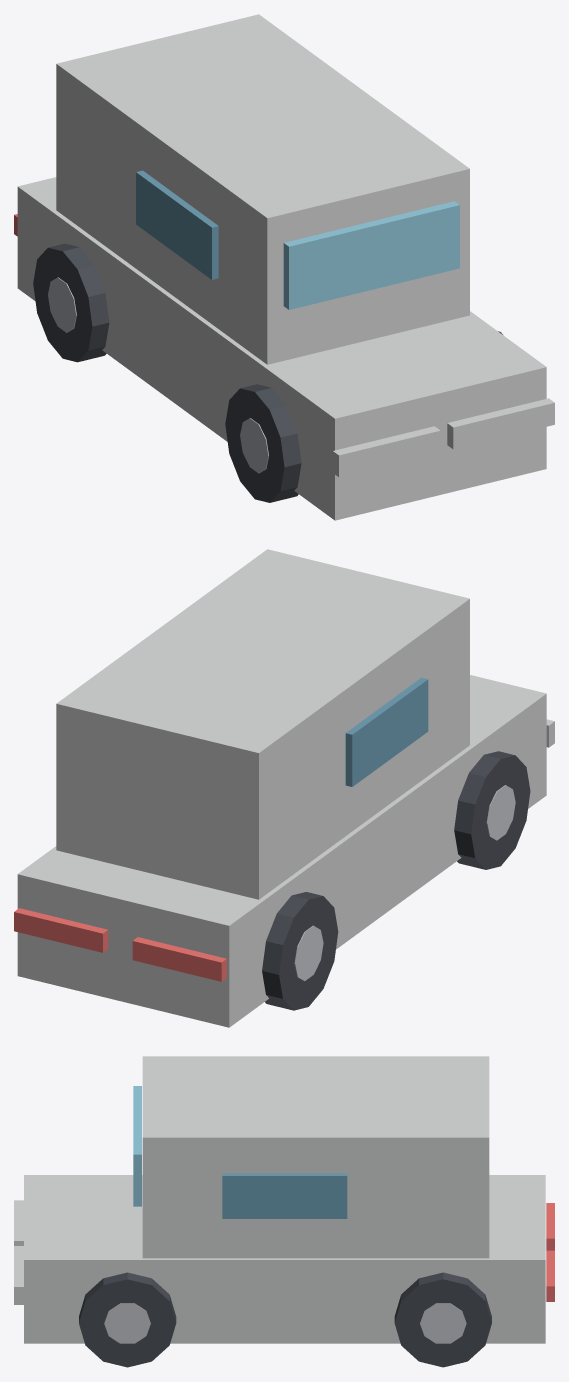
The model's file is traffic_delivery_van_white.glb.
The picture shows the model from 3 angles, top to bottom: view 1: azimuth 30°, elevation 25°; view 2: azimuth 150°, elevation 25°; view 3: azimuth 270°, elevation 25°; orthographic projection. The views are drawn at different scales.
Parts seen in each view (by area): view 1: van_upper_1, van_body_0, windshield_2, wheel_FL_5, wheel_RL_9, side_window_L_3, headlight_R_14, headlight_L_13, rim_FL_6, rim_RL_10; view 2: van_upper_1, van_body_0, wheel_FL_5, wheel_RL_9, side_window_L_3, taillight_L_15, taillight_R_16, rim_RL_10, rim_FL_6; view 3: van_upper_1, van_body_0, side_window_R_4, wheel_FR_7, wheel_RR_11, rim_RR_12, rim_FR_8, windshield_2, headlight_R_14, taillight_R_16, headlight_L_13, taillight_L_15.
Boxes of the visible parts, x1=… form: van_upper_1: x1=56, y1=14, x2=469, y2=364; van_body_0: x1=17, y1=177, x2=546, y2=520; windshield_2: x1=283, y1=201, x2=459, y2=309; wheel_FL_5: x1=225, y1=384, x2=301, y2=502; wheel_RL_9: x1=33, y1=243, x2=109, y2=362; side_window_L_3: x1=136, y1=170, x2=218, y2=279; headlight_R_14: x1=447, y1=398, x2=554, y2=449; headlight_L_13: x1=333, y1=426, x2=440, y2=477; rim_FL_6: x1=240, y1=418, x2=268, y2=473; rim_RL_10: x1=48, y1=277, x2=76, y2=332; van_upper_1: x1=56, y1=549, x2=469, y2=899; van_body_0: x1=17, y1=675, x2=546, y2=1027; wheel_FL_5: x1=454, y1=751, x2=530, y2=869; wheel_RL_9: x1=262, y1=892, x2=338, y2=1010; side_window_L_3: x1=345, y1=677, x2=428, y2=786; taillight_L_15: x1=132, y1=937, x2=226, y2=981; taillight_R_16: x1=14, y1=908, x2=108, y2=952; rim_RL_10: x1=294, y1=925, x2=323, y2=980; rim_FL_6: x1=486, y1=785, x2=515, y2=840; van_upper_1: x1=142, y1=1056, x2=489, y2=1258; van_body_0: x1=24, y1=1175, x2=545, y2=1343; side_window_R_4: x1=222, y1=1173, x2=347, y2=1218; wheel_FR_7: x1=79, y1=1272, x2=176, y2=1367; wheel_RR_11: x1=394, y1=1272, x2=491, y2=1367; rim_RR_12: x1=420, y1=1303, x2=466, y2=1343; rim_FR_8: x1=104, y1=1303, x2=150, y2=1343; windshield_2: x1=133, y1=1086, x2=141, y2=1206; headlight_R_14: x1=14, y1=1246, x2=23, y2=1304; taillight_R_16: x1=546, y1=1250, x2=554, y2=1301; headlight_L_13: x1=14, y1=1200, x2=23, y2=1245; taillight_L_15: x1=546, y1=1203, x2=554, y2=1250.
Bounding box in the file's own units: 1.88 × 1.96 × 4.34.
